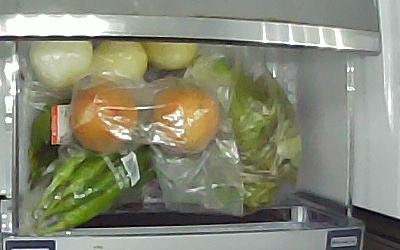peach_vinyl: (71, 79, 138, 154), (151, 84, 220, 154)
